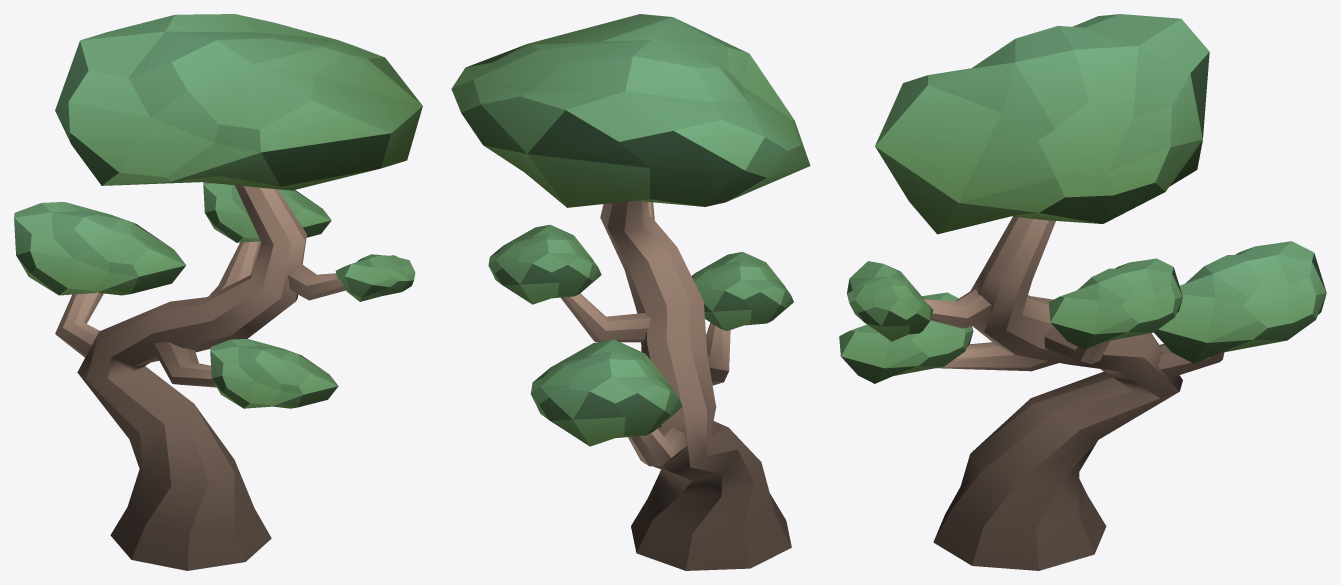
The model's file is m_bonsaiTree.fbx.
3 renders of one model, left to right at view 1: azimuth 30°, elevation 25°; view 2: azimuth 150°, elevation 25°; view 3: azimuth 270°, elevation 25°, orthographic. The views are drawn at different scales.
Visible parts, largest first — view 1: bonsaiTree; view 2: bonsaiTree; view 3: bonsaiTree.
Part boxes in pixels (bbox=[...]): bonsaiTree: bbox=[14, 14, 422, 570]; bonsaiTree: bbox=[451, 14, 810, 570]; bonsaiTree: bbox=[839, 14, 1326, 570].
Size of the model in its own units: 101 by 145 by 125.
